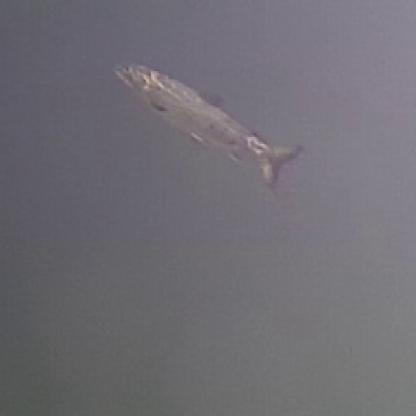salmon: (108, 57, 305, 187)
